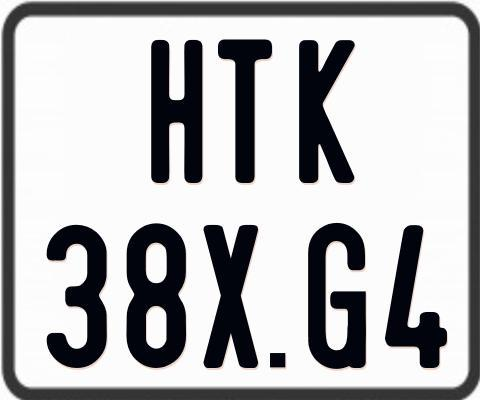3: (44, 225, 109, 372)
4: (384, 224, 446, 370)
8: (124, 222, 187, 372)
G: (305, 223, 365, 370)
H: (151, 38, 204, 185)
K: (297, 37, 354, 184)
T: (215, 39, 275, 187)
X: (201, 225, 256, 373)
